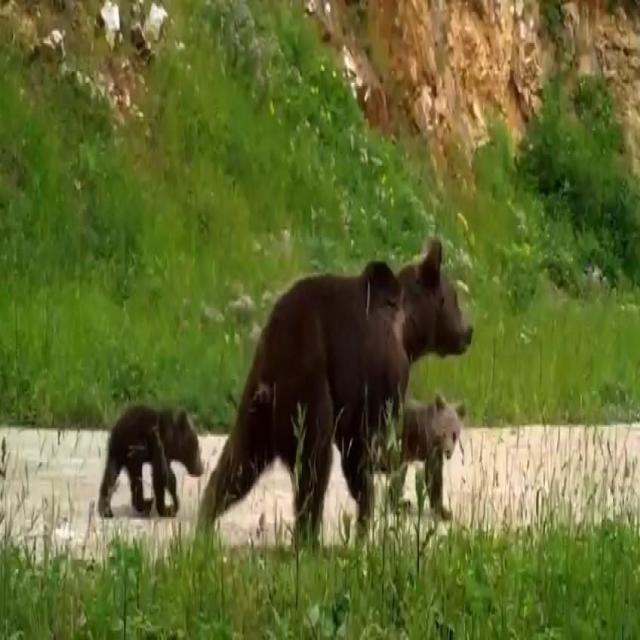Bear: (198, 241, 474, 551), (97, 406, 203, 521), (405, 401, 464, 516)
